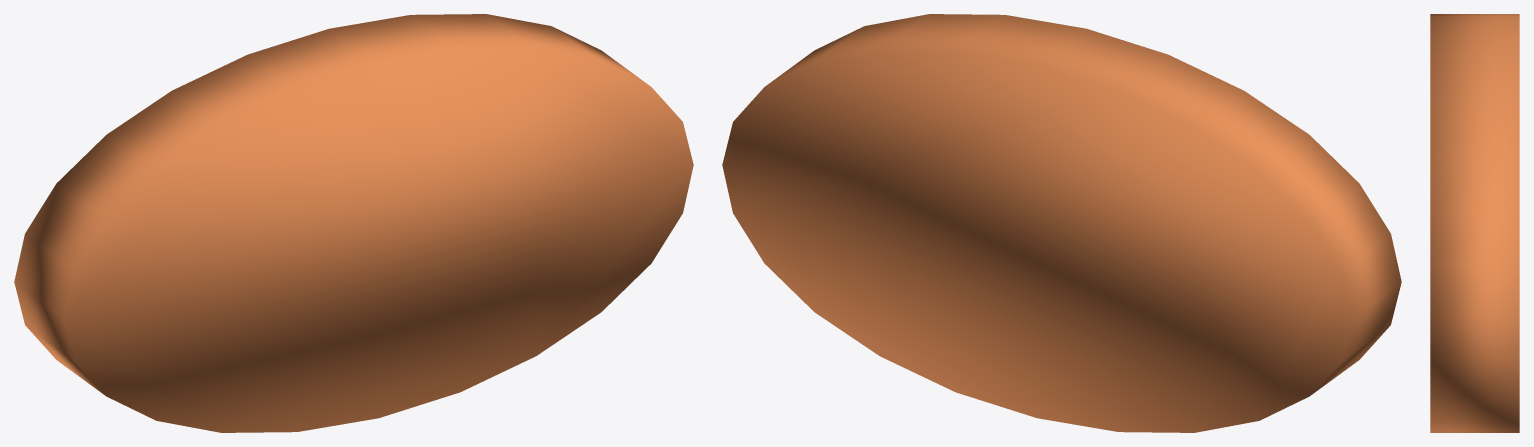
File: shape-oval-orange.glb
3 views of the same model, side by side, from view 1: azimuth 30°, elevation 25°; view 2: azimuth 150°, elevation 25°; view 3: azimuth 270°, elevation 25° (orthographic). The views are drawn at different scales.
Parts seen in each view (by area): view 1: solid oval; view 2: solid oval; view 3: solid oval.
Part boxes in pixels (x1,y1,x2,y2): solid oval: (14, 14, 693, 432); solid oval: (722, 14, 1401, 432); solid oval: (1430, 14, 1519, 432).
Size of the model in its own units: 1.82 by 0.975 by 0.25.
